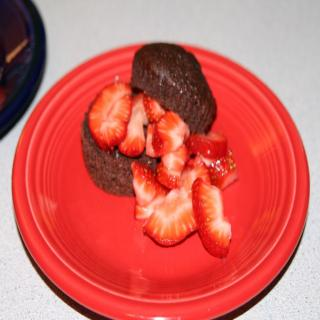Strawberry: (142, 157, 212, 248), (85, 78, 134, 155), (197, 181, 233, 262), (128, 158, 170, 222), (117, 90, 151, 160), (153, 107, 189, 160), (157, 145, 188, 190), (206, 151, 238, 192), (186, 130, 228, 159), (142, 91, 166, 124), (145, 121, 157, 158)
